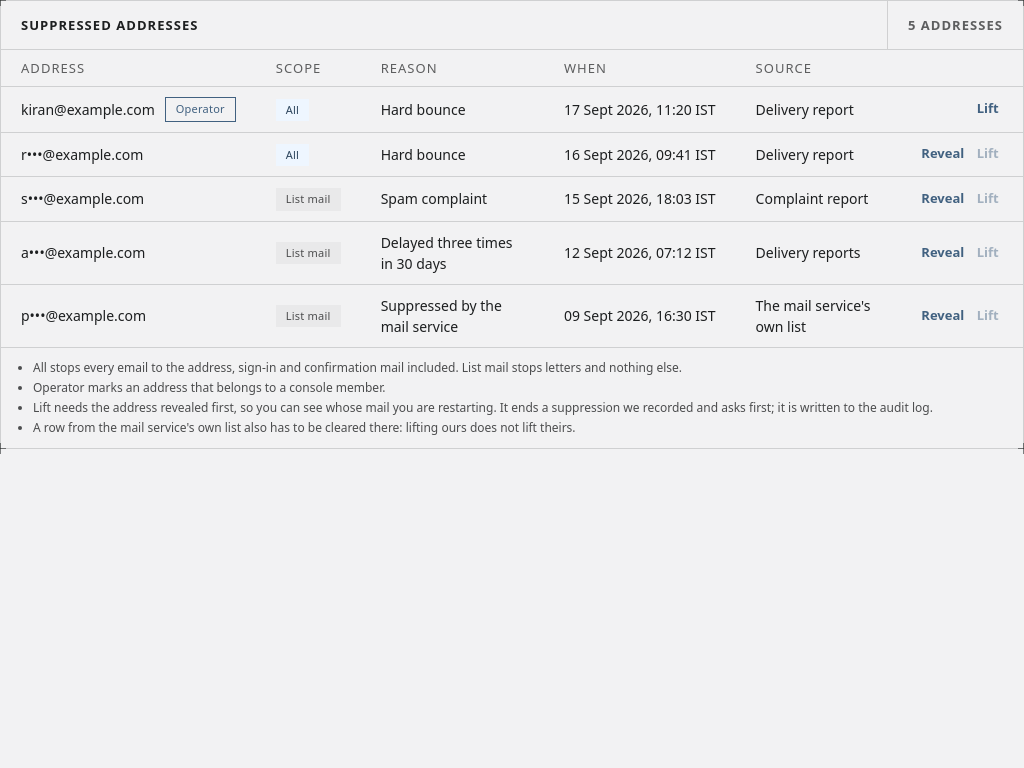
it: Lift › for a row from the mail service's own list, says lifting ours does not lift theirs
Click the button "Reveal" in the row of "p•••@example.com": (943, 316) [917,300,969,332]
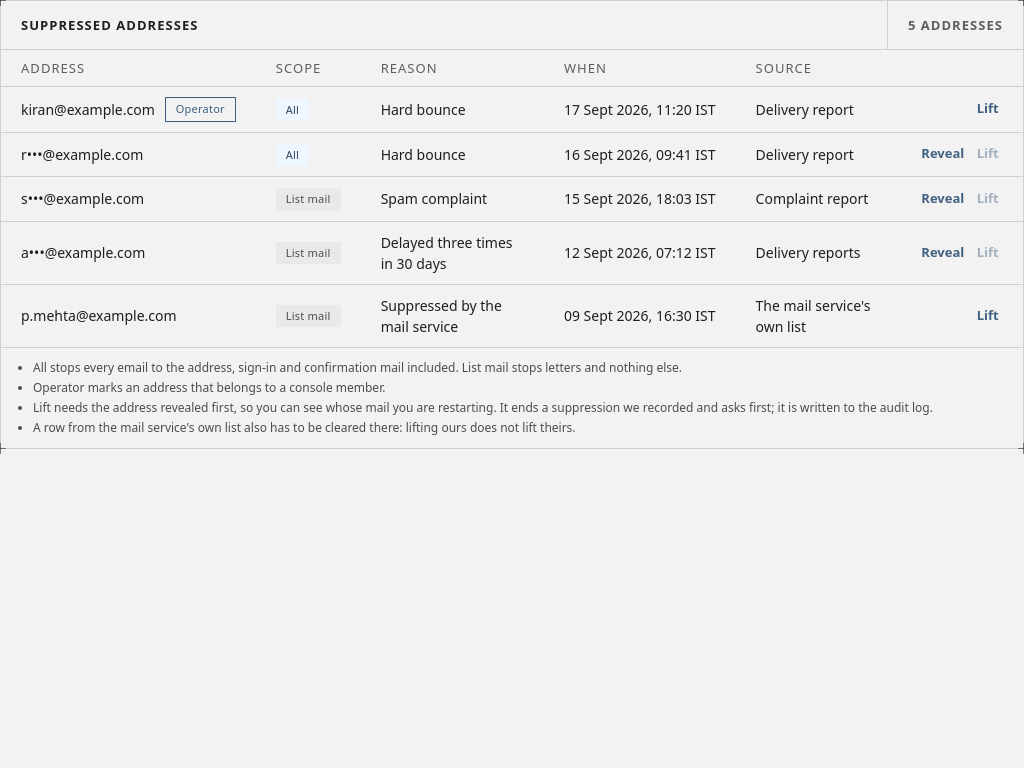
Click the button "Lift" in the row of "p.mehta@example.com": (988, 316) [972,300,1003,332]
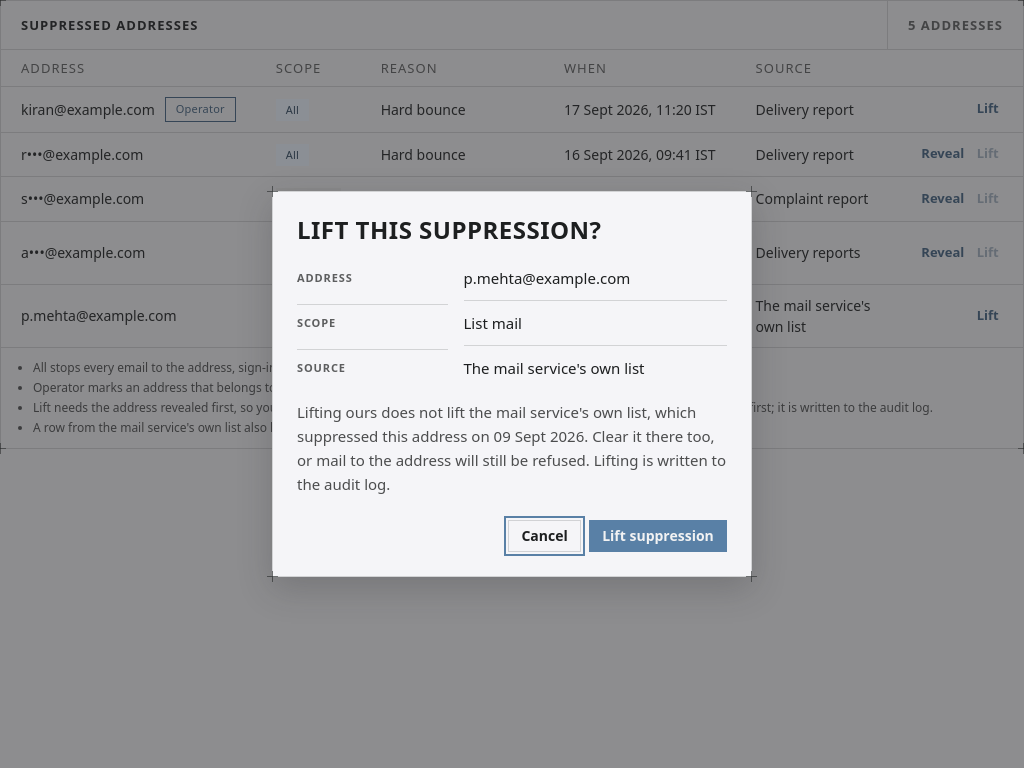
Expected: the text "The mail service's own list" is shown, [464,345,727,390]
